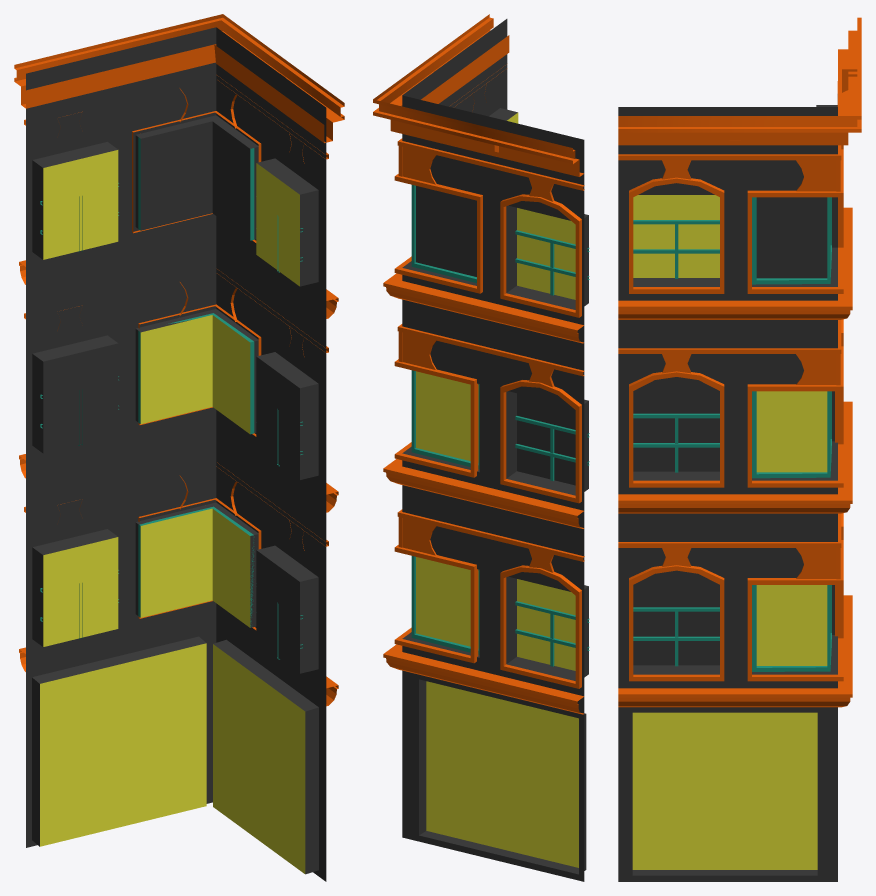
Rendered from SM_Build_Corner_01.fbx.
3 renders of one model, left to right at view 1: azimuth 30°, elevation 25°; view 2: azimuth 150°, elevation 25°; view 3: azimuth 270°, elevation 25°, orthographic. The views are drawn at different scales.
Parts seen in each view (by area): view 1: Box063, Box067, Group004; view 2: Box063, Group004, Box067, Box064, Box065, Box066, Box072, Box073, Box071, Box081, Box082, Box080; view 3: Box063, Group004, Box067, Box065, Box066, Box064, Box072, Box073, Box071, Box074, Box075, Box076 (+2 smaller).
Part boxes in pixels (x1,y1,x2,y2): Box063: [26, 27, 326, 881]; Box067: [14, 14, 344, 143]; Group004: [132, 88, 261, 630]; Box063: [402, 19, 588, 881]; Group004: [394, 146, 581, 688]; Box067: [373, 14, 583, 176]; Box064: [383, 644, 583, 714]; Box065: [383, 459, 583, 528]; Box066: [383, 273, 583, 343]; Box072: [397, 65, 584, 190]; Box073: [397, 509, 584, 561]; Box071: [397, 324, 584, 376]; Box081: [515, 601, 589, 666]; Box082: [515, 230, 589, 295]; Box080: [515, 416, 589, 480]; Box063: [618, 105, 837, 881]; Group004: [629, 145, 843, 681]; Box067: [618, 17, 861, 145]; Box065: [618, 401, 852, 513]; Box066: [618, 207, 852, 319]; Box064: [618, 595, 852, 707]; Box072: [618, 145, 841, 160]; Box073: [618, 513, 841, 547]; Box071: [618, 320, 841, 353]; Box074: [633, 413, 719, 472]; Box075: [633, 607, 719, 666]; Box076: [633, 220, 719, 278].
Size of the model in its own units: 589 by 2083 by 593.
